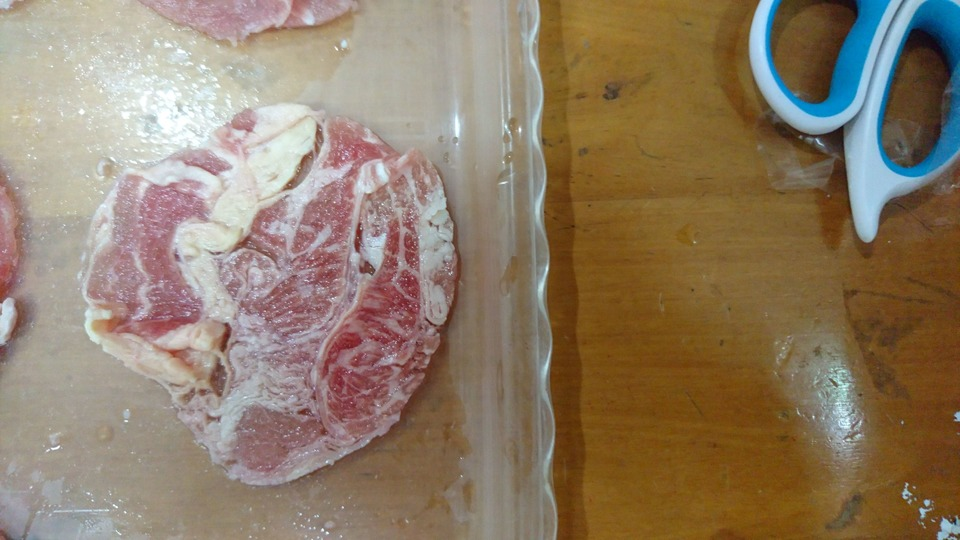restructured meat: (63, 104, 486, 467)
